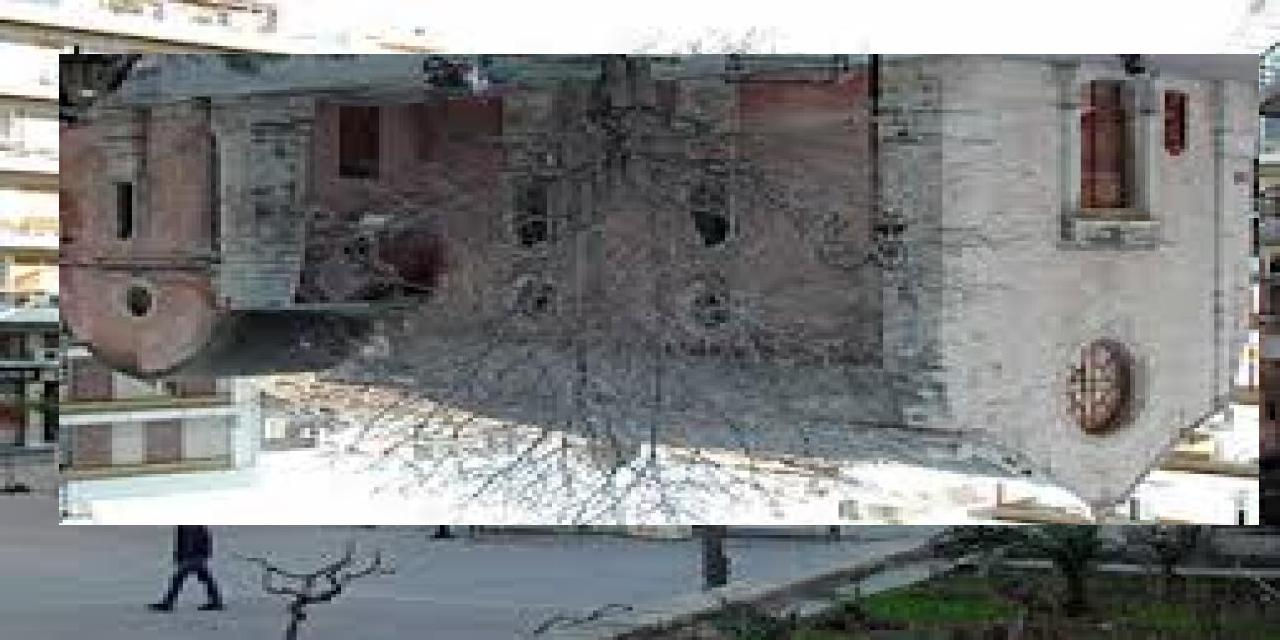Agia Aikaterini: (60, 55, 1260, 526)
